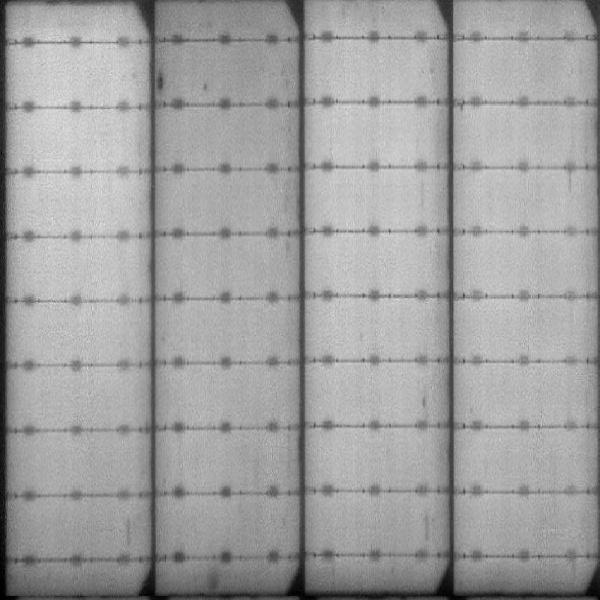scratch: (123, 514, 135, 547)
